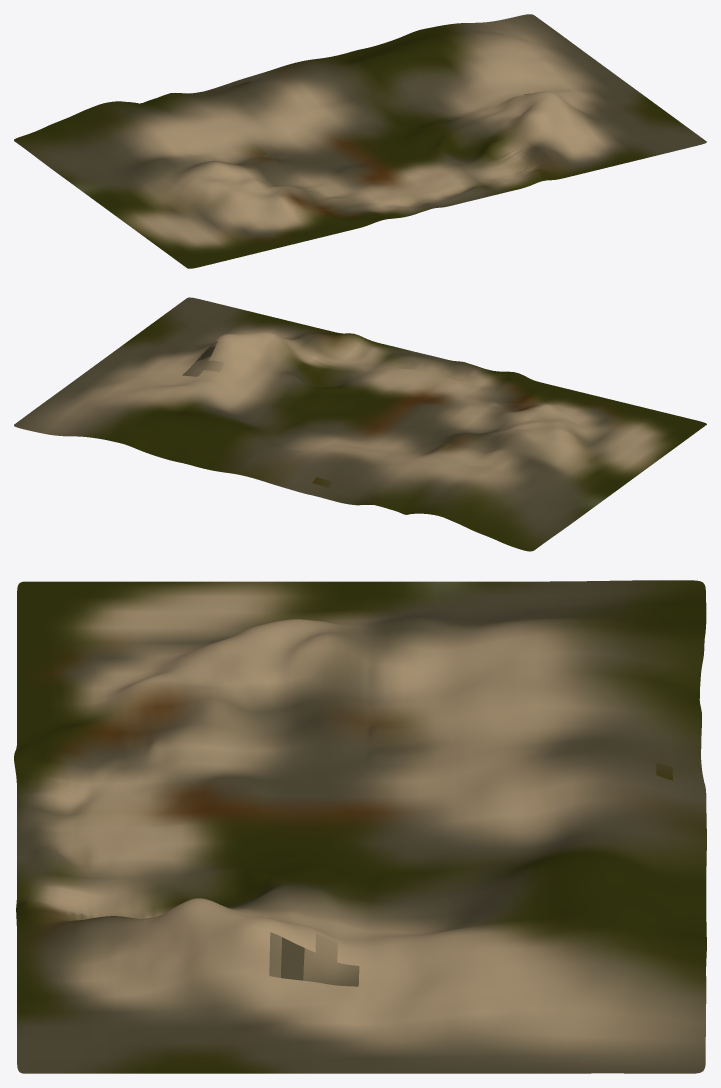
Rendered from terrain.fbx.
3 views of the same model, one above another, from view 1: azimuth 30°, elevation 25°; view 2: azimuth 150°, elevation 25°; view 3: azimuth 270°, elevation 25° (orthographic). The views are drawn at different scales.
Visible parts, largest first — view 1: Plane.058; view 2: Plane.058; view 3: Plane.058.
Part boxes in pixels (x1,y1,x2,y2): Plane.058: (14, 14, 706, 268); Plane.058: (14, 297, 706, 551); Plane.058: (14, 580, 706, 1073).
Size of the model in its own units: 5029 by 314 by 2992.
